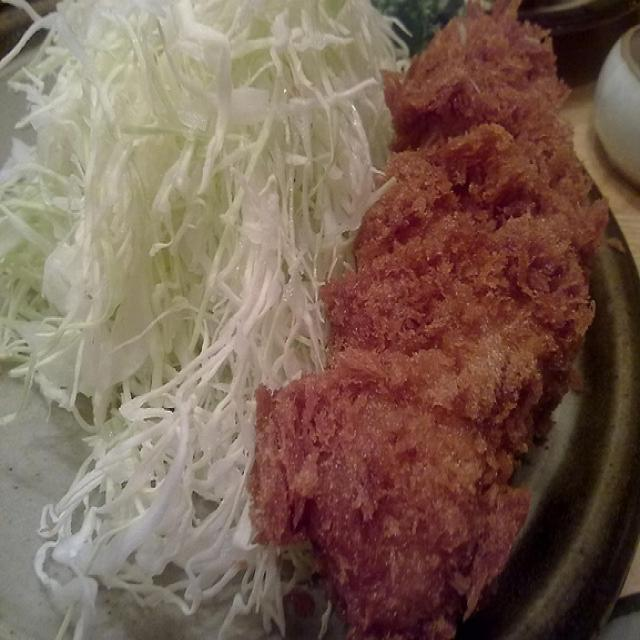牛肉菜式: (228, 21, 616, 628)
